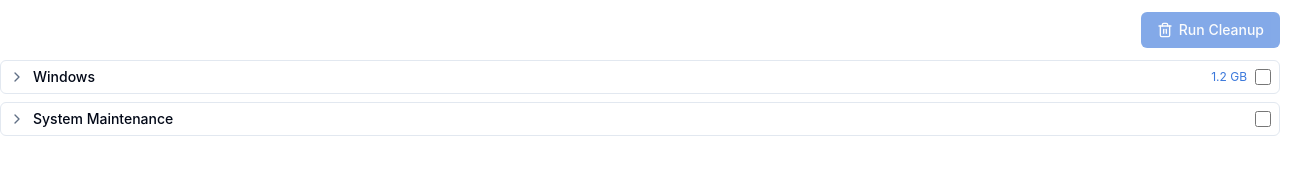
Test: the groups › lists a repair under the maintenance heading, not under 'Other'
Click the button "System Maintenance" at [103, 118], box [9,109,1247,129]
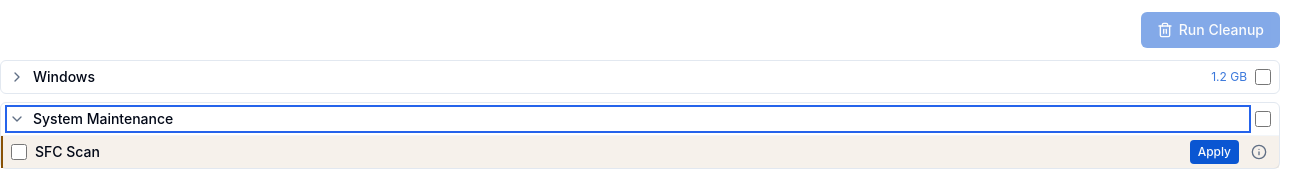
Result: the text "SFC Scan" is shown at [35,143,100,160]
